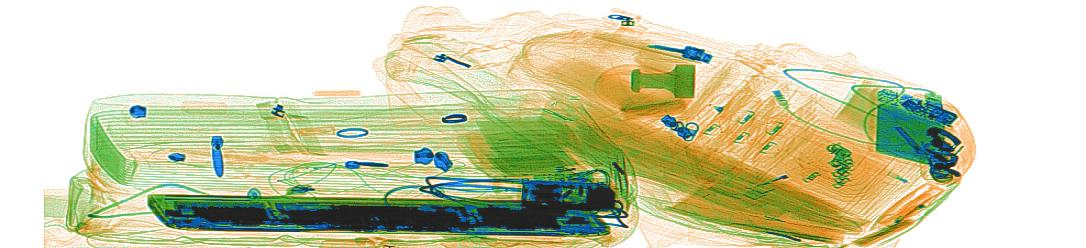lighter: (742, 165, 815, 202)
seal: (628, 63, 698, 99)
